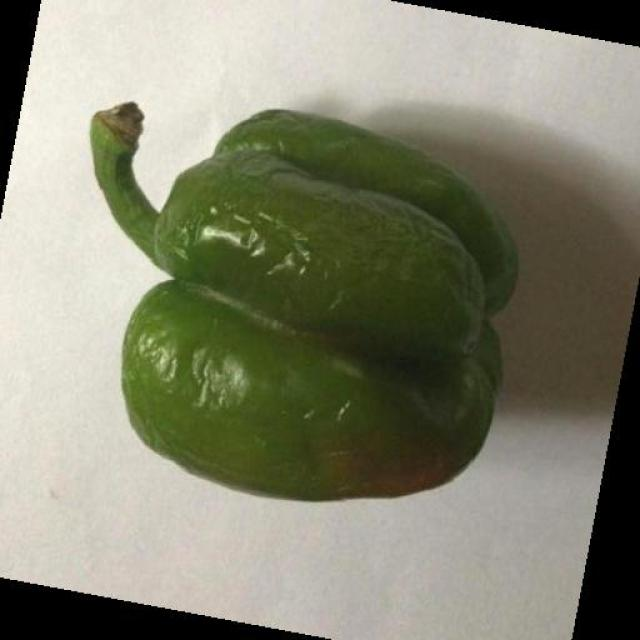Stale_Capsicum: (109, 74, 512, 521)
